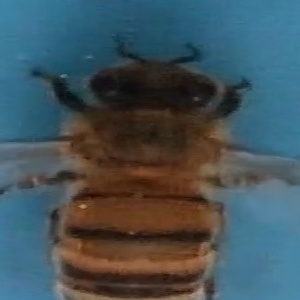bee: (3, 35, 287, 300)
